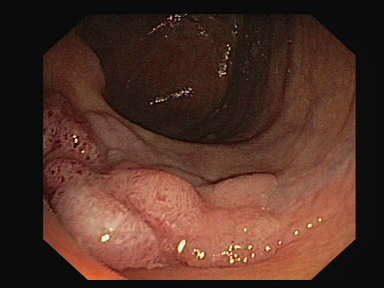polyp: (41, 62, 305, 277)
